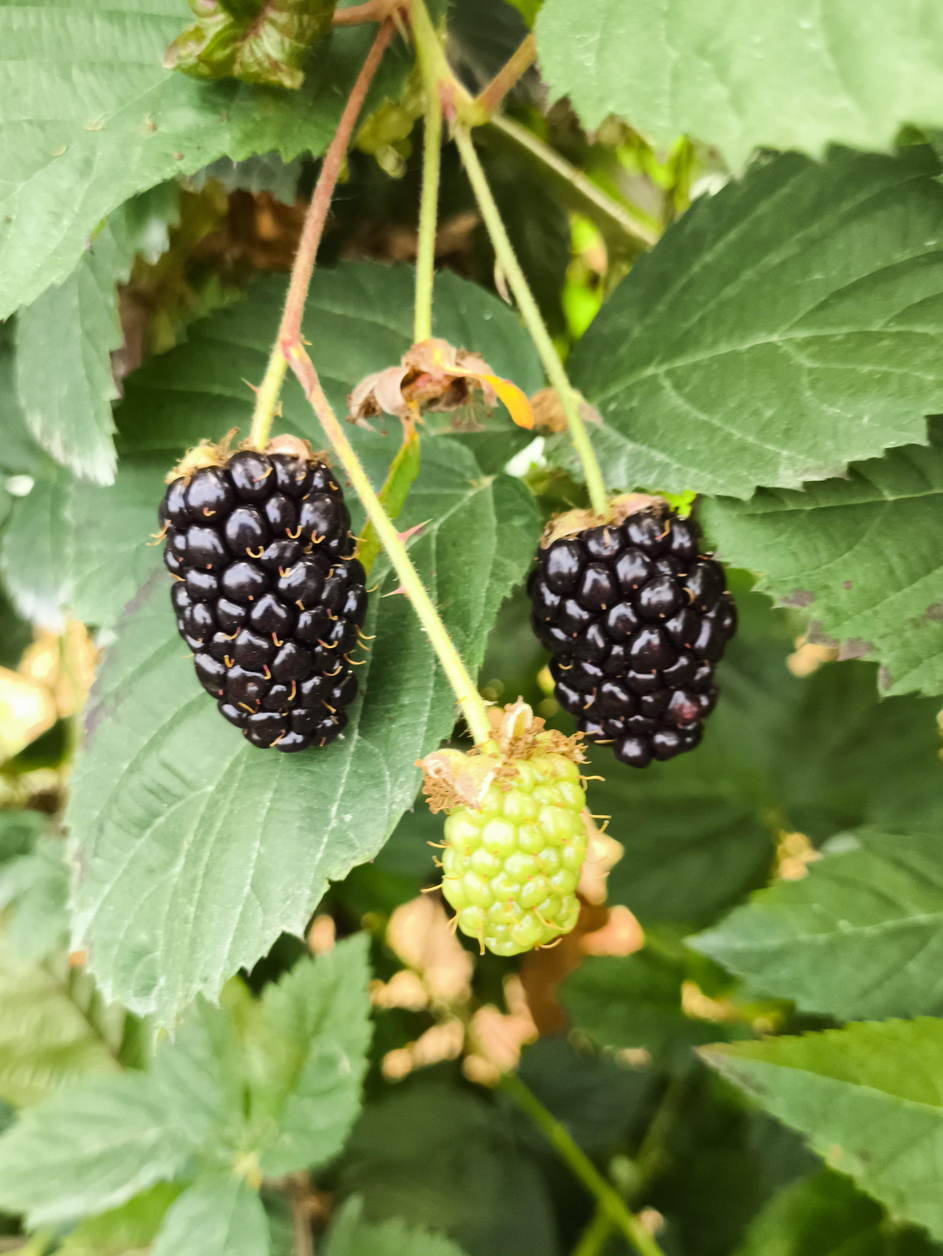maduro: (159, 450, 360, 744), (527, 493, 729, 773)
verde: (440, 736, 589, 957)
